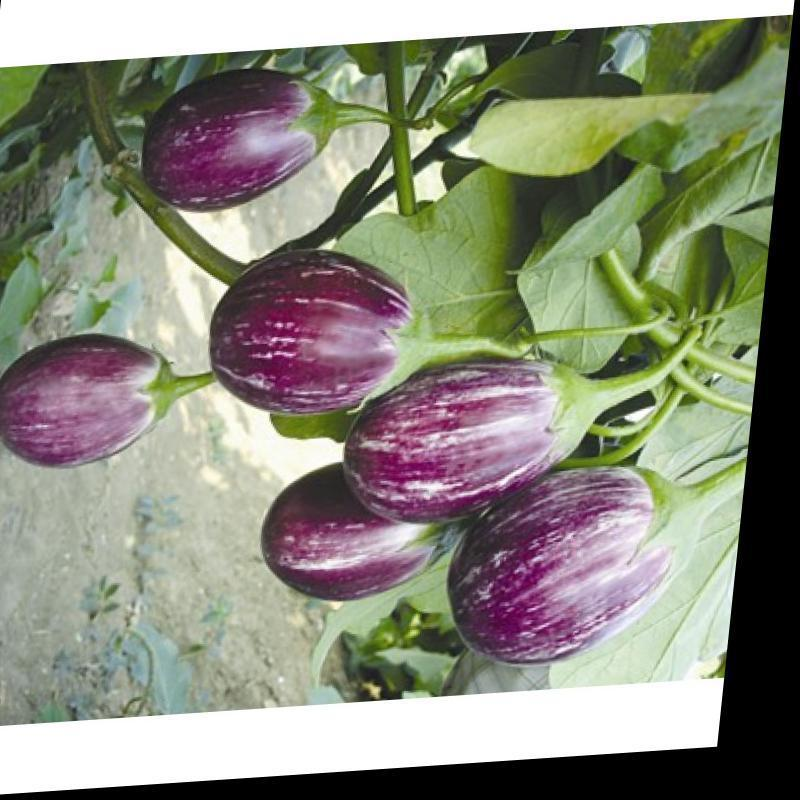eggplant: (335, 318, 692, 526), (461, 456, 758, 703), (171, 239, 494, 419), (126, 36, 382, 242), (0, 314, 229, 514), (246, 465, 471, 642)
